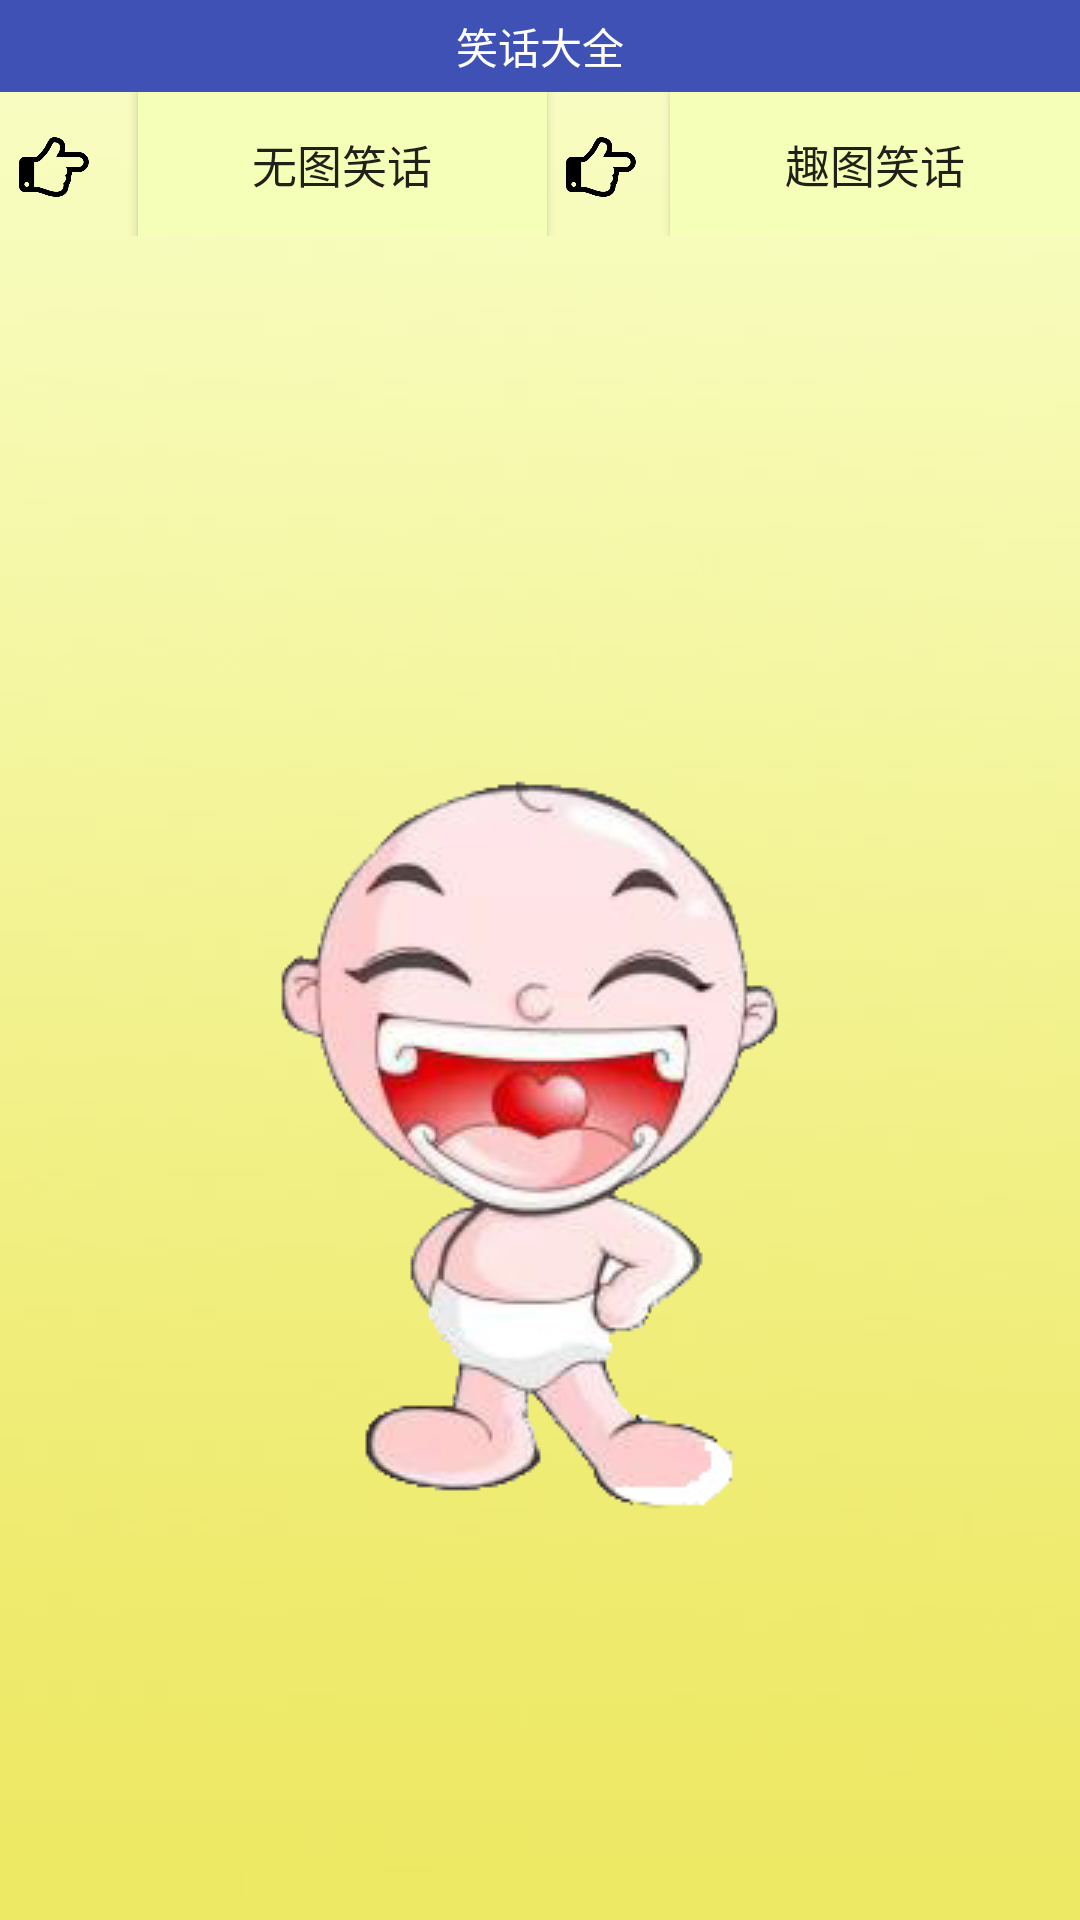

Screen size 1080×1920. Icon name, then its center in pixels as (x=x, y=y):
finger: (x=54, y=167), (x=601, y=167)
